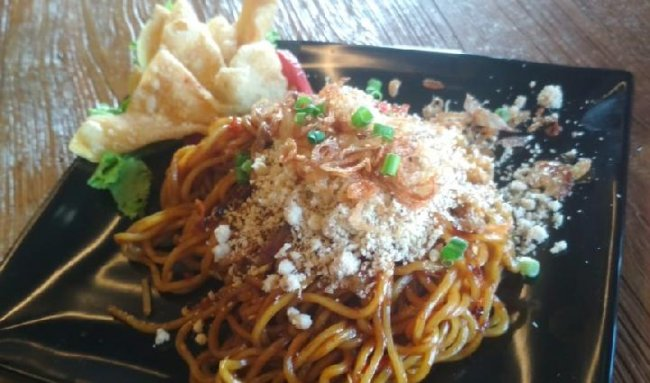Mie: (108, 95, 557, 383)
